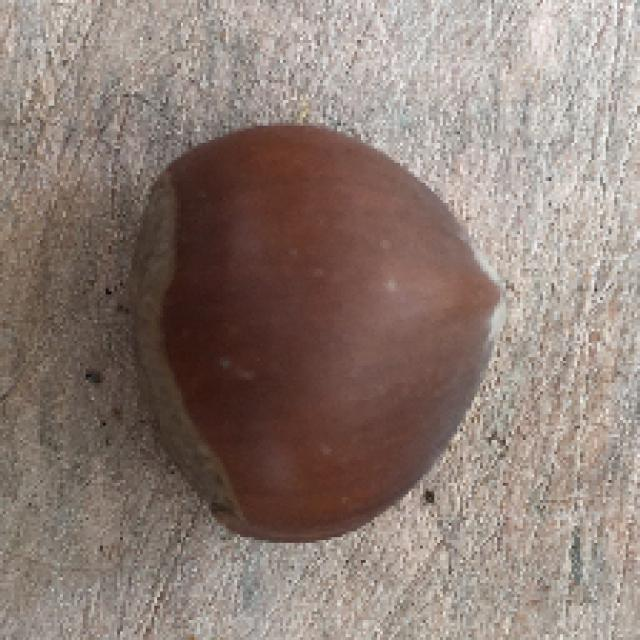qualityHazelnut: (128, 132, 504, 536)
